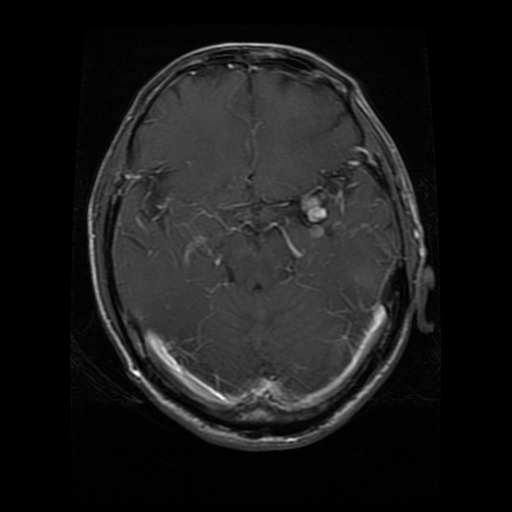glioma: (296, 185, 330, 225)
